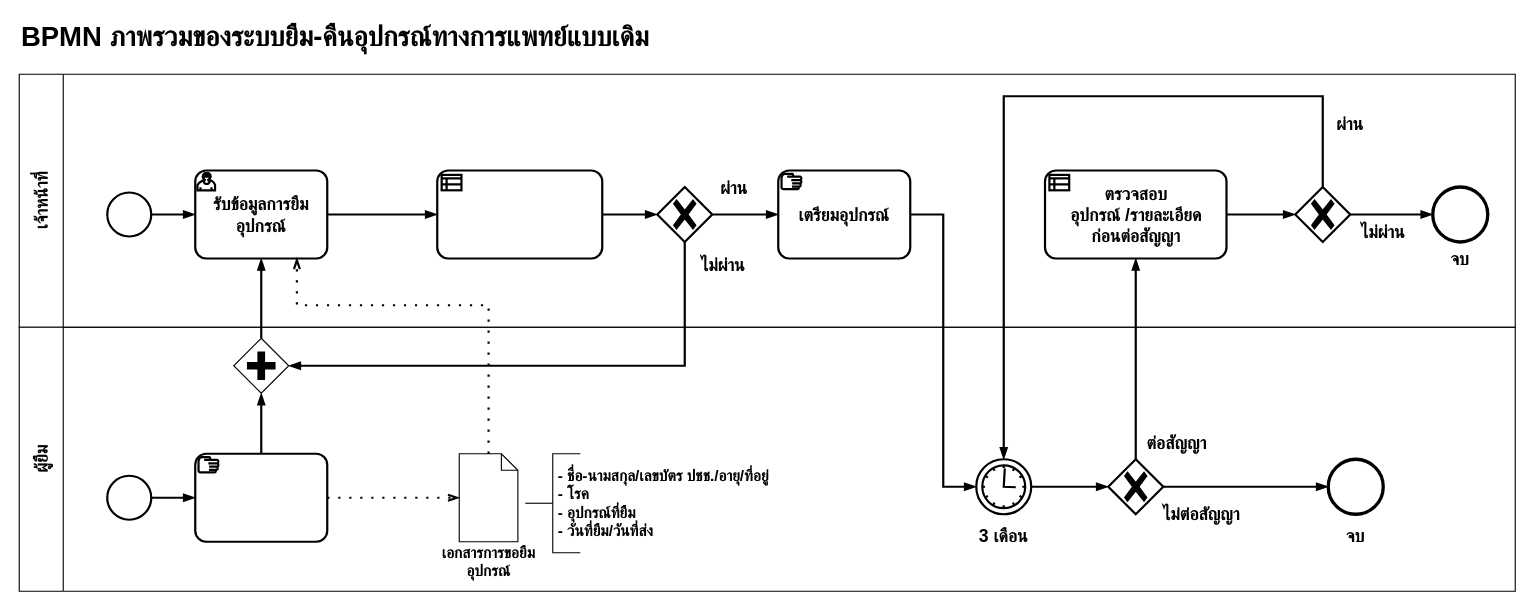
Image size: 1535x611. Some labels were removed from this diagram. The shapes that lost their labels are listed below. From the top down, each one's centre as x and y in pixels, then its label:
pixel 519 214: ตรวจสอบข้อมูล รายละเอียด ขอยืม
pixel 261 497: กรอกข้อมูลการยืมอุปกรณ์
